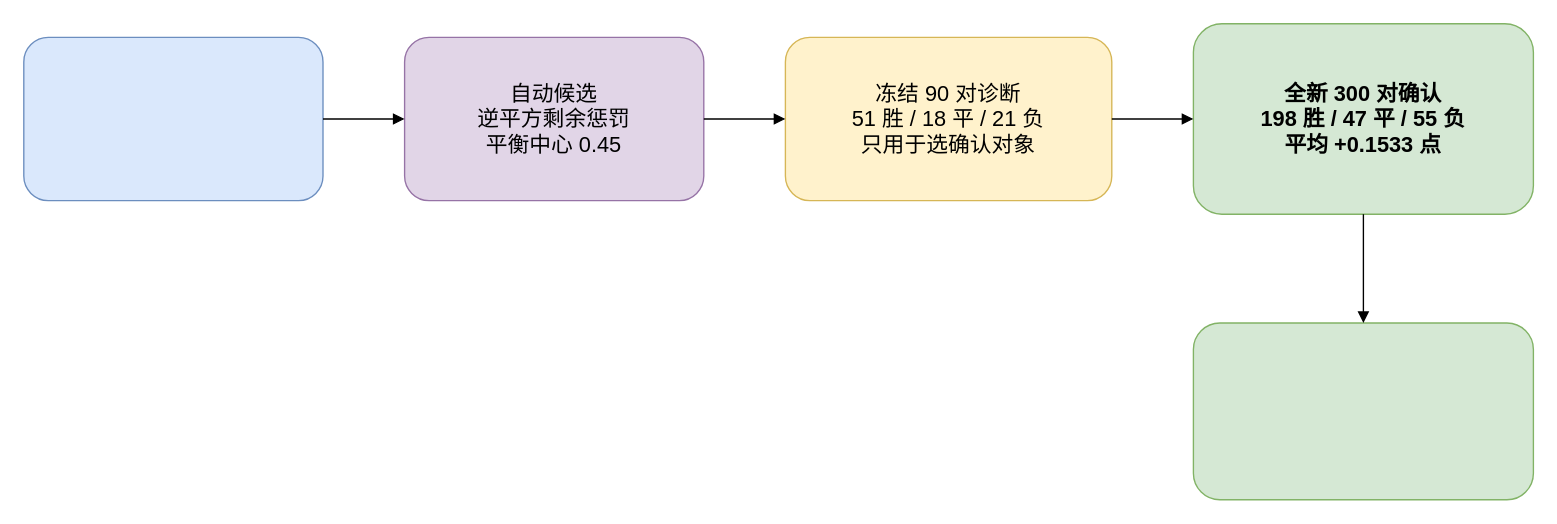
Image size: 1557x524. Some labels were removed from this diagram. Here are the shapes that lost their labels. From the top down, the centre of each, then its label:
At (172,118): "EOH 科研 Agent 普通 objective 提示 独立确认门接纳".
At (1362,411): "发布跨设备正式 seed 范围：C100 Weibull 下一步：HiFo 分布外验证".
